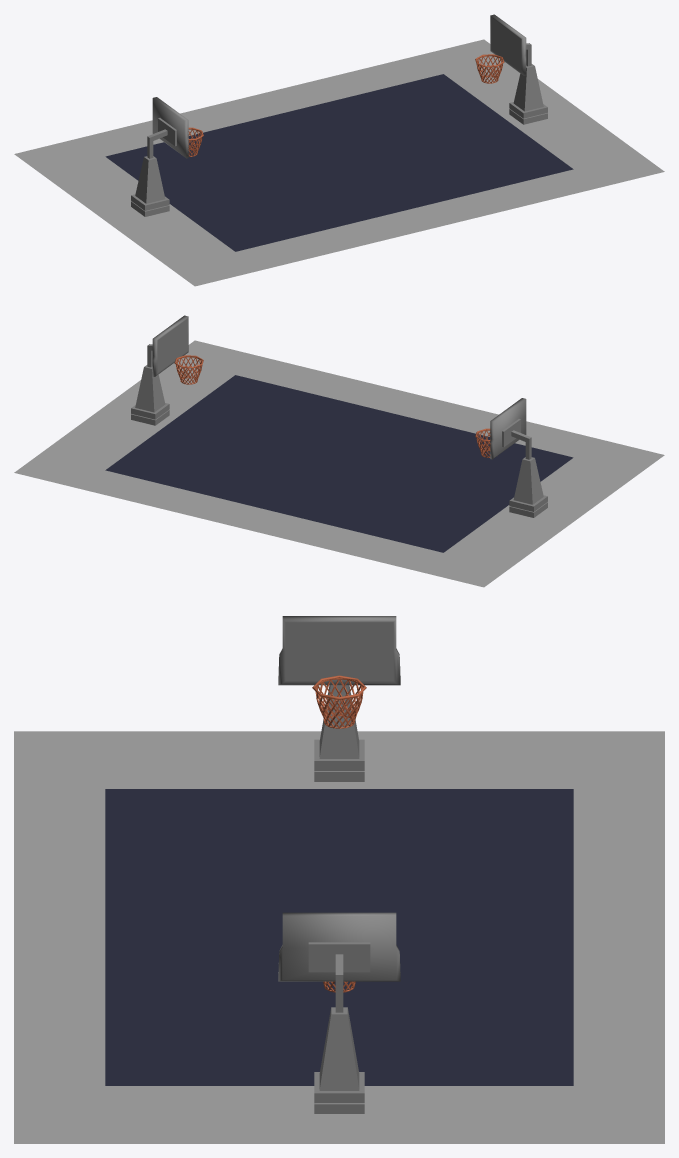
Rendered from quadra.fbx.
3 renders of one model, top to bottom at view 1: azimuth 30°, elevation 25°; view 2: azimuth 150°, elevation 25°; view 3: azimuth 270°, elevation 25°, orthographic. The views are drawn at different scales.
Visible parts, largest first — view 1: trave; view 2: trave; view 3: trave.
Part boxes in pixels (bbox=[...]): trave: bbox=[14, 14, 664, 286]; trave: bbox=[14, 315, 664, 587]; trave: bbox=[14, 616, 664, 1143].
Bounding box in the file's own units: 2845 × 551 × 1896.
